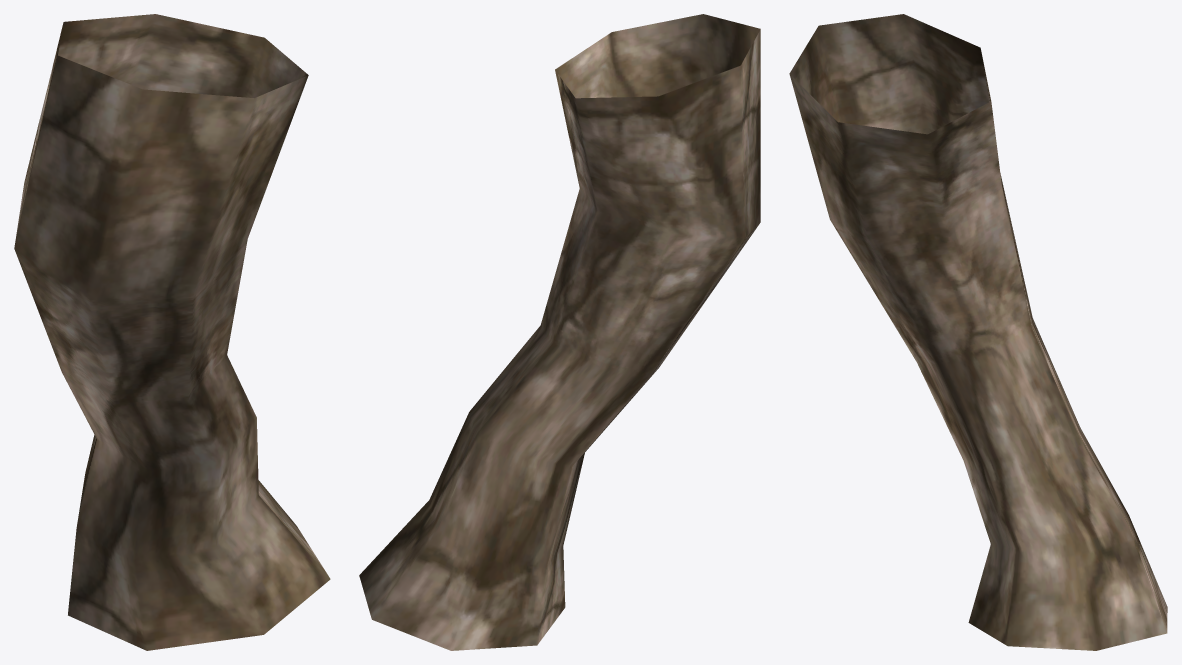
The model's file is EKH_JAIL_PS_JA_PILLAR363534.fbx.
The picture shows the model from 3 angles, left to right: view 1: azimuth 30°, elevation 25°; view 2: azimuth 150°, elevation 25°; view 3: azimuth 270°, elevation 25°; orthographic projection. The views are drawn at different scales.
Visible parts, largest first — view 1: EKH_JAIL_PS_JA_PILLAR363534; view 2: EKH_JAIL_PS_JA_PILLAR363534; view 3: EKH_JAIL_PS_JA_PILLAR363534.
Boxes of the visible parts, x1,y1,x2,y2 form: EKH_JAIL_PS_JA_PILLAR363534: (14,14,330,650); EKH_JAIL_PS_JA_PILLAR363534: (359,14,760,650); EKH_JAIL_PS_JA_PILLAR363534: (789,14,1167,650).
Bounding box in the file's own units: 26908 × 45406 × 29557.
1 material, 1 textured.
